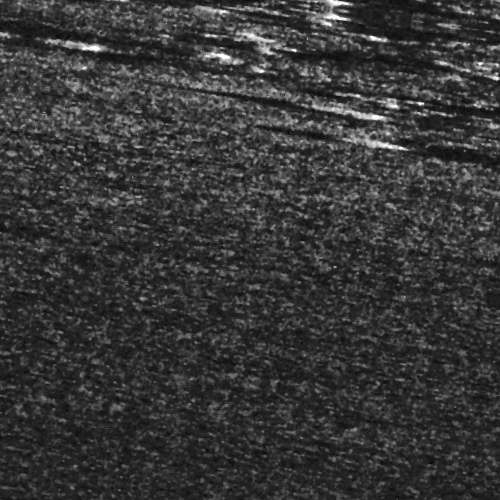object: (184, 0, 277, 19), (276, 92, 369, 101), (330, 122, 413, 127)
shadow: (12, 0, 230, 19), (179, 92, 322, 101), (442, 70, 500, 79), (302, 122, 371, 127), (468, 100, 500, 107)
